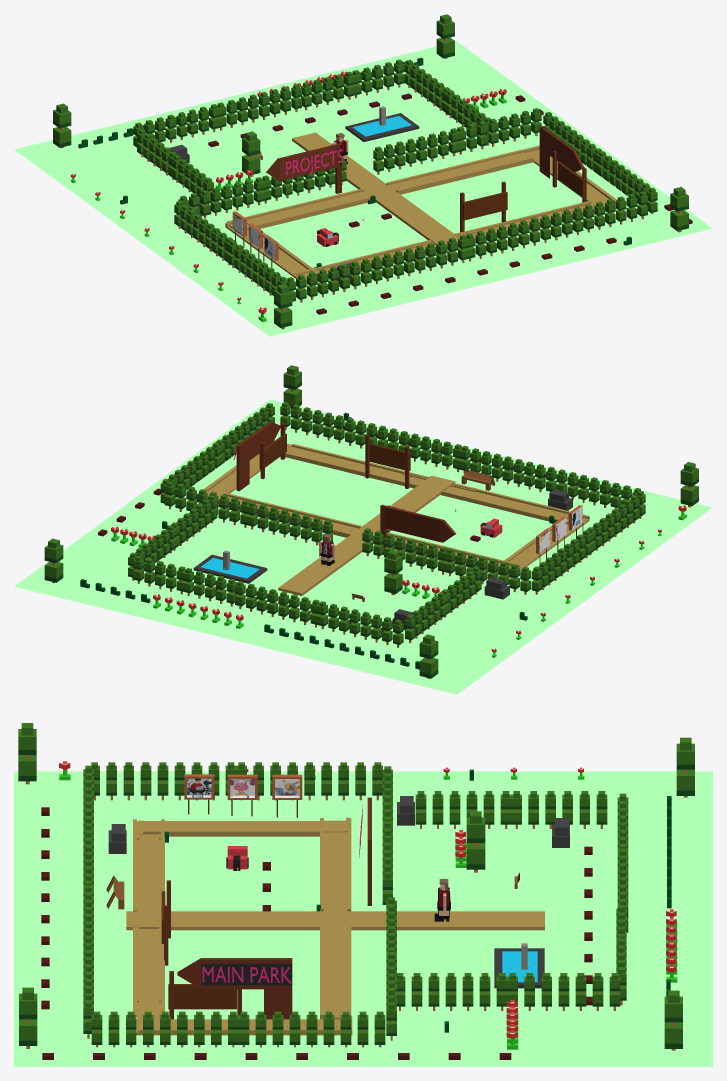
Rendered from portfolio.glb.
The picture shows the model from 3 angles, top to bottom: view 1: azimuth 30°, elevation 25°; view 2: azimuth 150°, elevation 25°; view 3: azimuth 270°, elevation 25°; orthographic projection. The views are drawn at different scales.
Visible parts, largest first — view 1: Level.001, Tree.018, PathWay1.001, Tree.024, Tree.026, Tree.025, Tree.019, Tree.020, Tree.022, Tree.021, Tree.023, projectboard (+13 smaller); view 2: Level.001, Tree.018, PathWay1.001, Tree.026, Plane.005, Tree.025, Tree.024, Tree.019, Tree.020, Tree.022, Tree.021, Tree.023 (+13 smaller); view 3: Level.001, PathWay1.001, Tree.020, Tree.019, Tree.021, Plane.005, Tree.023, Cube.027, Path3.002, Tree.018, Tree.024, Cube.036 (+23 smaller).
Boxes of the visible parts, <box> form: Level.001: <box>14,41,712,336</box>; Tree.018: <box>287,191,647,302</box>; PathWay1.001: <box>227,132,533,252</box>; Tree.024: <box>373,108,541,174</box>; Tree.026: <box>133,84,301,147</box>; Tree.025: <box>178,157,346,218</box>; Tree.019: <box>174,200,287,295</box>; Tree.020: <box>543,112,657,213</box>; Tree.022: <box>301,59,404,110</box>; Tree.021: <box>404,59,491,145</box>; Tree.023: <box>137,129,213,204</box>; projectboard: <box>266,143,341,193</box>; Level.001: <box>14,399,712,694</box>; Tree.018: <box>280,402,640,509</box>; PathWay1.001: <box>217,475,520,595</box>; Tree.026: <box>235,581,403,647</box>; Plane.005: <box>285,443,589,523</box>; Tree.025: <box>362,528,530,594</box>; Tree.024: <box>164,481,332,545</box>; Tree.019: <box>531,490,645,594</box>; Tree.020: <box>160,403,274,503</box>; Tree.022: <box>133,555,237,606</box>; Tree.021: <box>128,495,217,580</box>; Tree.023: <box>405,566,481,643</box>; Level.001: <box>14,771,712,1066</box>; PathWay1.001: <box>126,818,544,1019</box>; Tree.020: <box>91,1011,385,1047</box>; Tree.019: <box>91,762,382,800</box>; Tree.021: <box>395,973,620,1010</box>; Plane.005: <box>133,819,164,1019</box>; Tree.023: <box>415,791,607,828</box>; Cube.027: <box>177,958,292,1019</box>; Path3.002: <box>137,817,349,836</box>; Tree.018: <box>83,765,93,1038</box>; Tree.024: <box>386,897,396,1040</box>; Cube.036: <box>494,948,544,988</box>.
Size of the model in its own units: 314 by 49.34 by 314.
Materials: 40 (3 with a texture image).
